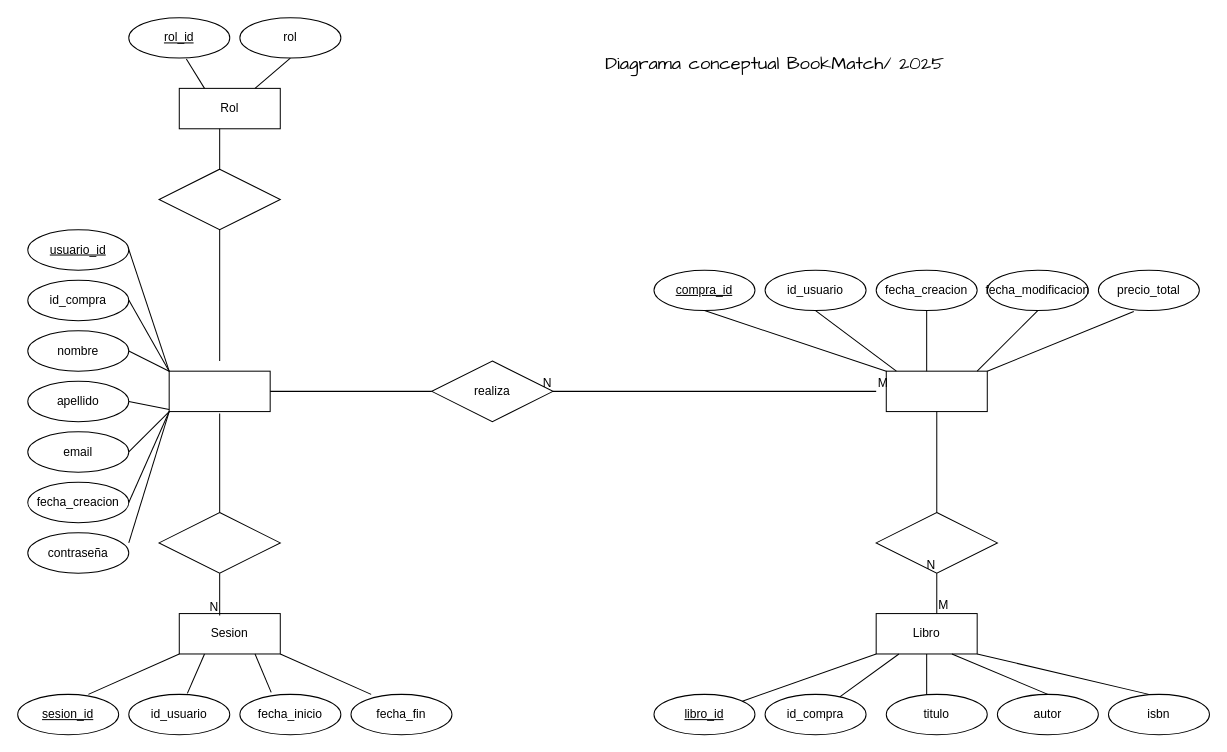
Image size: 1227x752. Some labels were removed from this diagram. Each missing label, with the centre of its shape:
"Compra" belongs at (x=936, y=391).
"elije" belongs at (x=936, y=542).
"es" belongs at (x=219, y=199).
"inicia" belongs at (x=219, y=542).
"Usuario" belongs at (x=219, y=391).
